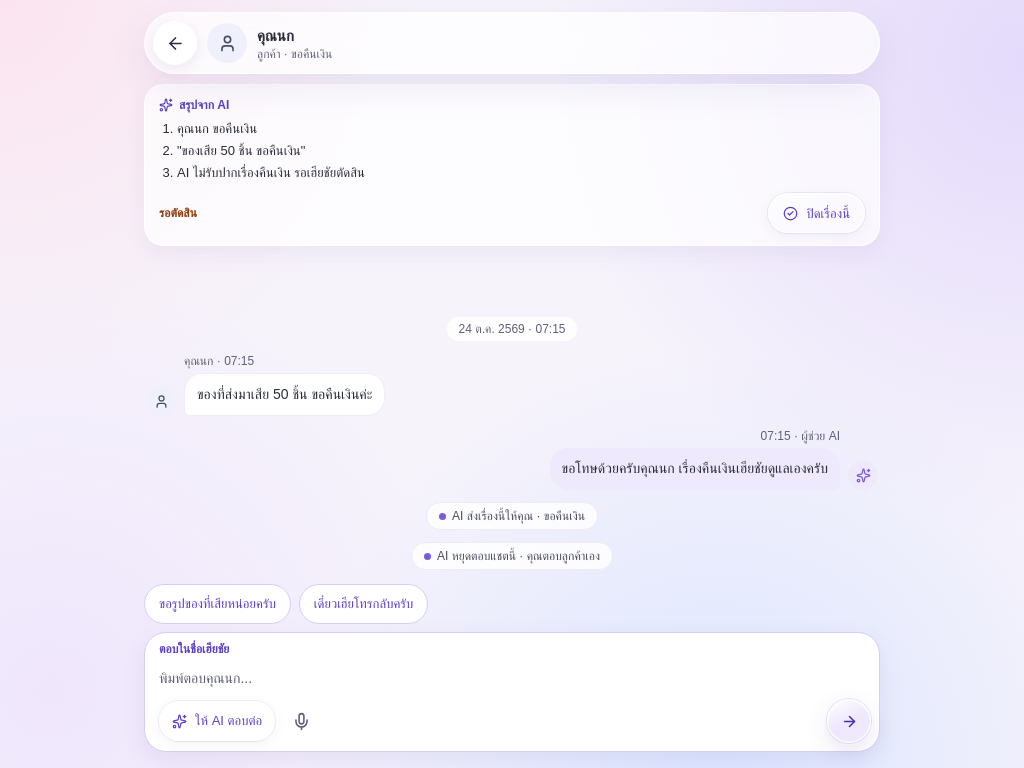
Test case: ไมค์ของเถ้าแก่ — พูดแทนพิมพ์ › กดอัด → กดอีกครั้ง → ข้อความที่พูดไปอยู่ในช่องตอบ (ยังไม่ส่ง ให้ตรวจก่อน)
Click the button named "พูดแทนพิมพ์".
click(301, 721)  # box [279,699,323,743]
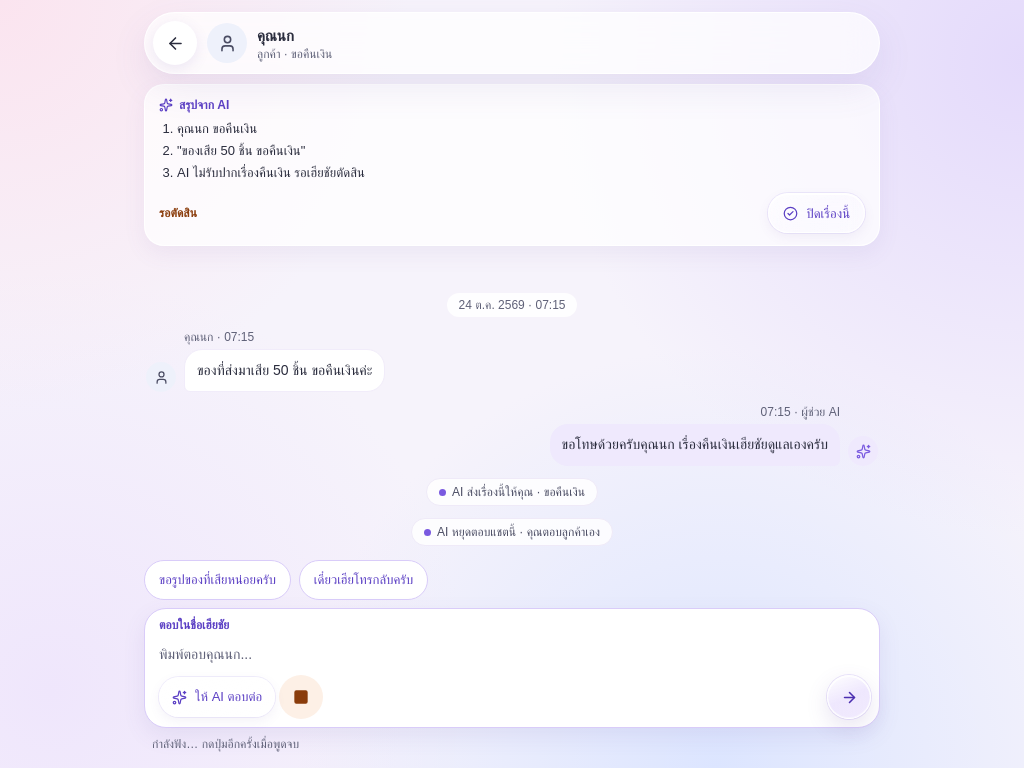
Click the button named "หยุดอัดเสียง".
click(301, 697)  # box [279,675,323,719]
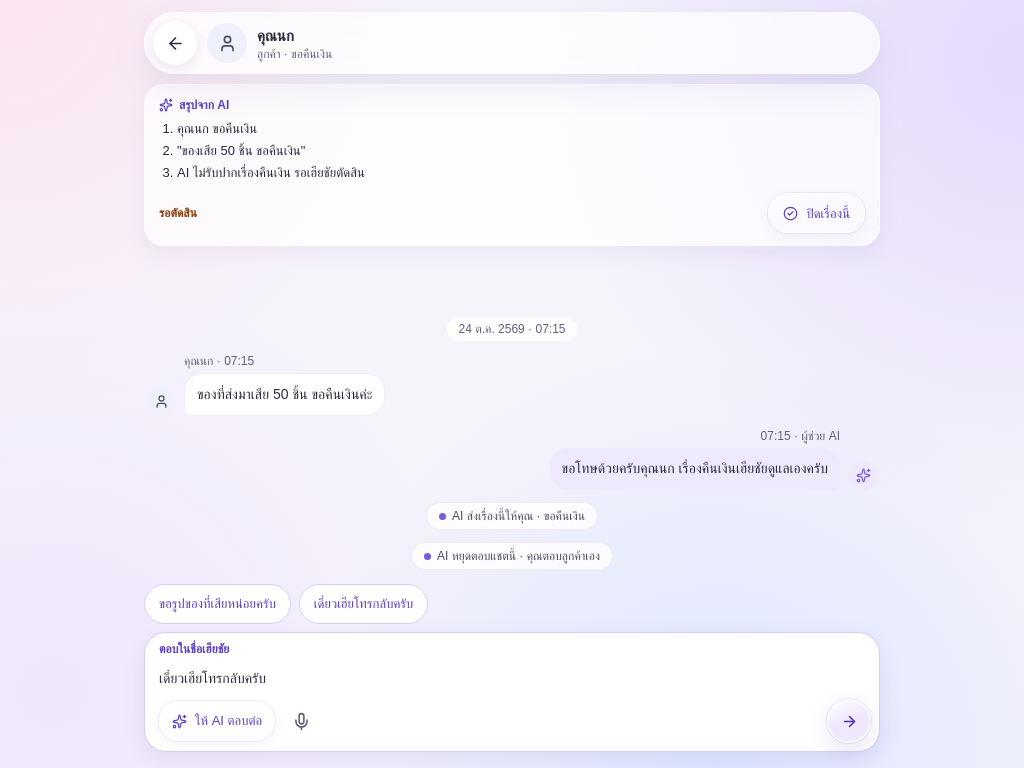
Check: the field named "พิมพ์ตอบ" holds "เดี๋ยวเฮียโทรกลับครับ", box [159,661,871,695]
